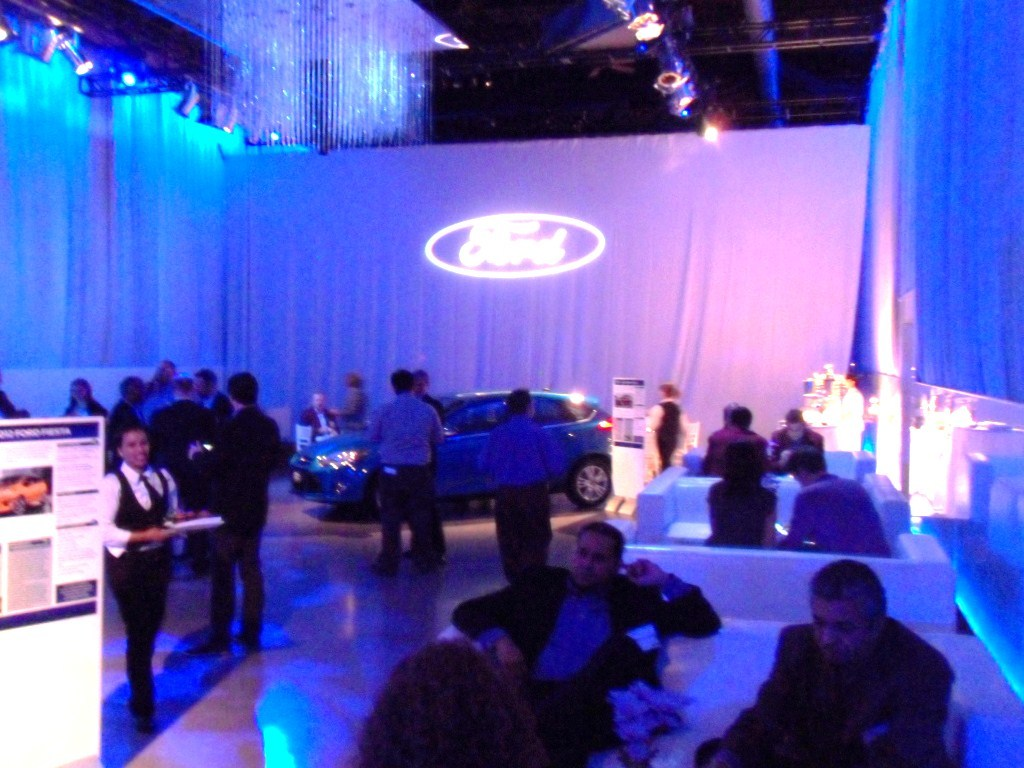Car: (282, 379, 673, 548)
